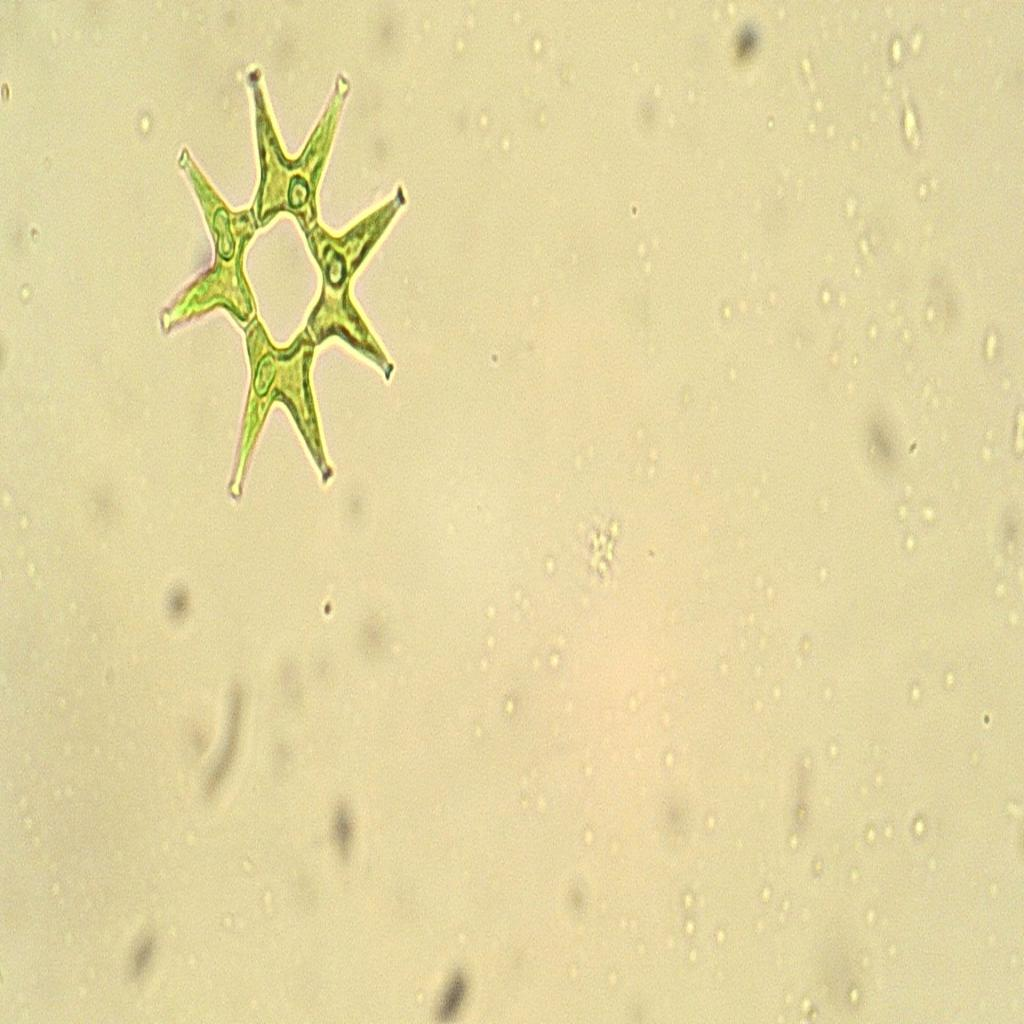Pediastrum_75O: (145, 56, 416, 513)
